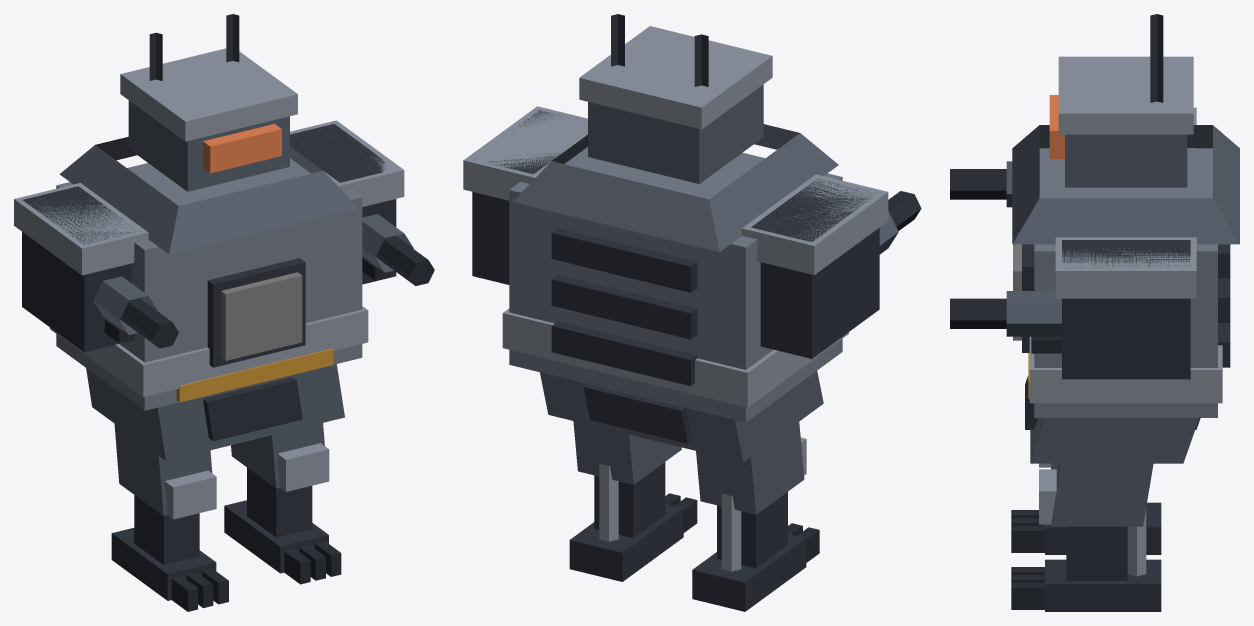
Rendered from heavy-attack-1.obj.
3 renders of one model, left to right at view 1: azimuth 30°, elevation 25°; view 2: azimuth 150°, elevation 25°; view 3: azimuth 270°, elevation 25°, orthographic. The views are drawn at different scales.
Visible parts, largest first — view 1: heavy-attack-1; view 2: heavy-attack-1; view 3: heavy-attack-1.
Part boxes in pixels (bbox=[...]): heavy-attack-1: bbox=[14, 14, 434, 611]; heavy-attack-1: bbox=[463, 14, 921, 611]; heavy-attack-1: bbox=[950, 14, 1239, 611].
Bounding box in the file's own units: 2.52 × 3.85 × 1.89.
